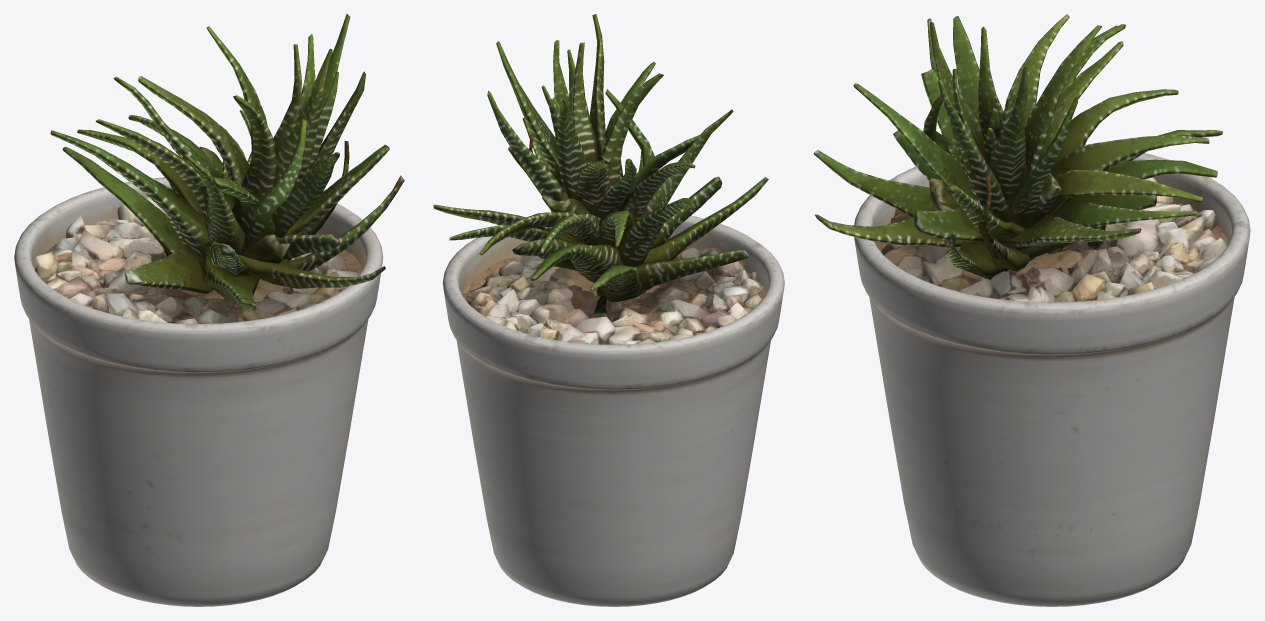
File: potted_plant_04.gltf
3 views of the same model, side by side, from view 1: azimuth 30°, elevation 25°; view 2: azimuth 150°, elevation 25°; view 3: azimuth 270°, elevation 25° (orthographic). The views are drawn at different scales.
Parts seen in each view (by area): view 1: potted_plant_04_pot, potted_plant_04_plant, potted_plant_04_ground, potted_plant_04_dirt; view 2: potted_plant_04_pot, potted_plant_04_plant, potted_plant_04_ground, potted_plant_04_dirt; view 3: potted_plant_04_pot, potted_plant_04_plant, potted_plant_04_ground, potted_plant_04_dirt.
Boxes of the visible parts, x1,y1,x2,y2 form: potted_plant_04_pot: (14,177,383,606); potted_plant_04_plant: (50,14,404,311); potted_plant_04_ground: (34,196,357,323); potted_plant_04_dirt: (34,238,362,307); potted_plant_04_pot: (442,215,784,606); potted_plant_04_plant: (433,14,768,314); potted_plant_04_ground: (463,247,765,344); potted_plant_04_dirt: (462,247,765,306); potted_plant_04_pot: (854,144,1250,606); potted_plant_04_plant: (813,14,1222,279); potted_plant_04_ground: (881,177,1227,302); potted_plant_04_dirt: (875,200,1228,297).
Size of the model in its own units: 0.1679 by 0.2675 by 0.1848.
1 material, 1 textured.
